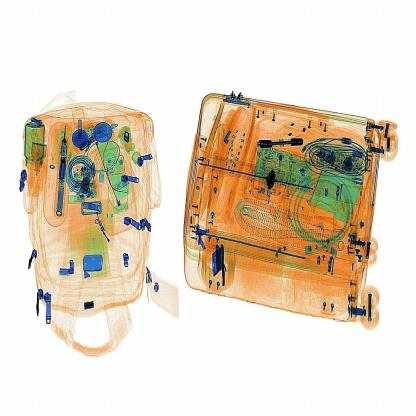knife: (249, 125, 309, 156)
